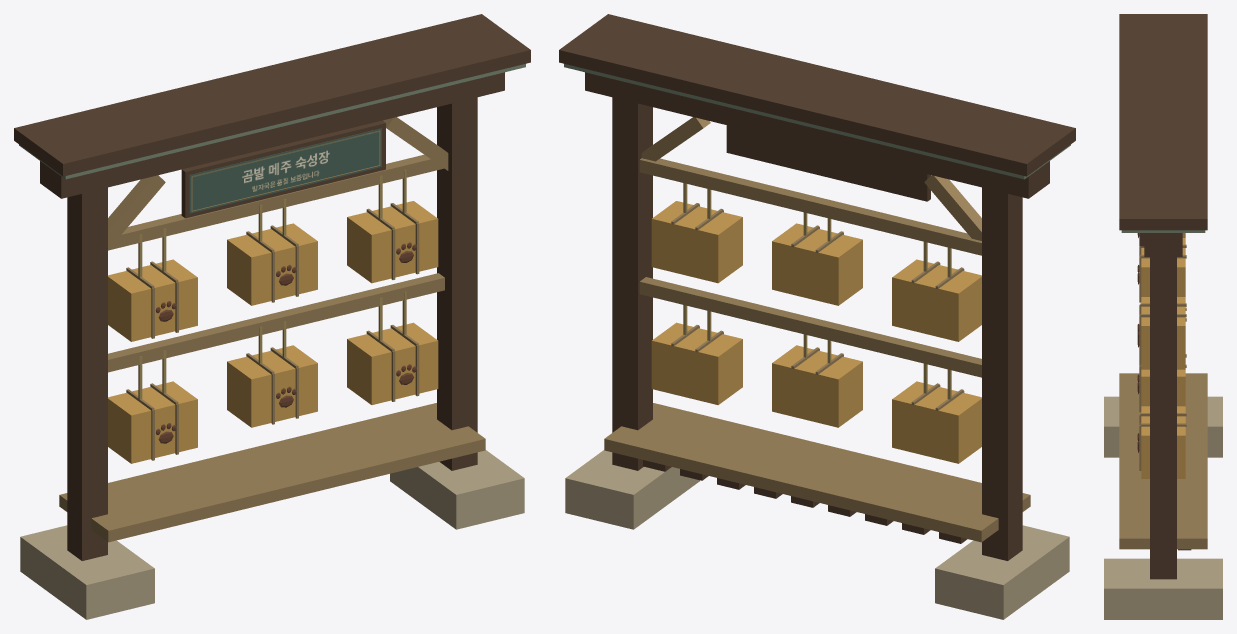
File: L02_Meju_Drying_Rack.fbx
3 views of the same model, side by side, from view 1: azimuth 30°, elevation 25°; view 2: azimuth 150°, elevation 25°; view 3: azimuth 270°, elevation 25° (orthographic). The views are drawn at different scales.
Visible parts, largest first — view 1: Structure.001; view 2: Structure.001; view 3: Structure.001.
Part boxes in pixels (x1,y1,x2,y2): Structure.001: (14, 14, 530, 619); Structure.001: (559, 14, 1075, 619); Structure.001: (1104, 14, 1222, 619).
Bounding box in the file's own units: 253 × 234 × 62.
Materials: 1 (1 with a texture image).
